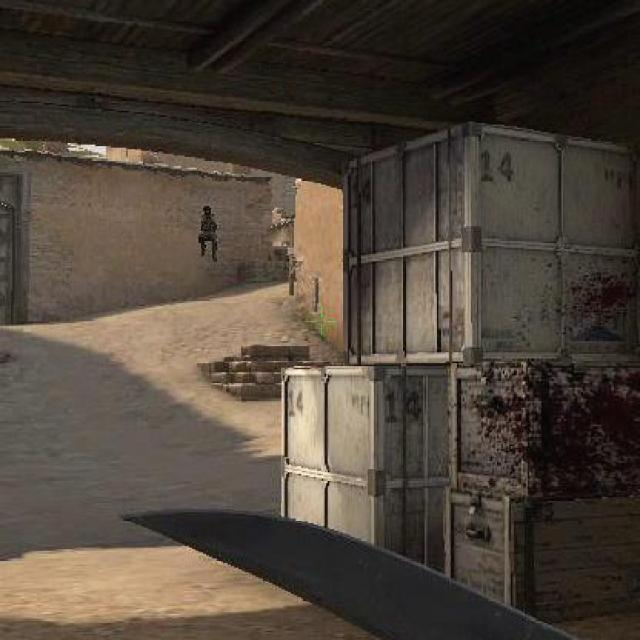CT-Body: (203, 207, 212, 216)
CT-Head: (196, 206, 218, 254)
